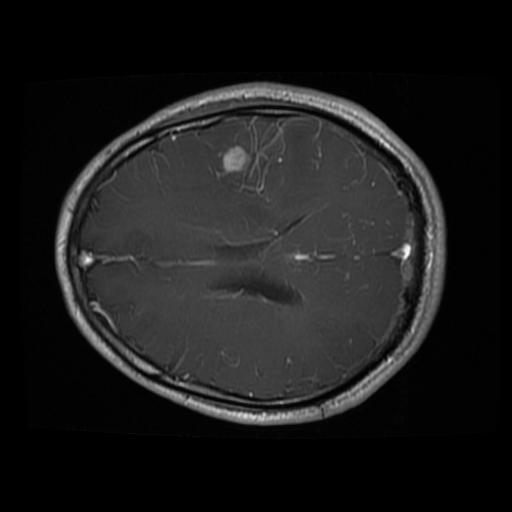glioma: (204, 115, 288, 202)
